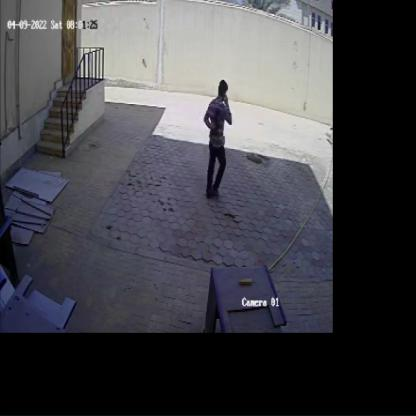handgun: (206, 102, 226, 148)
